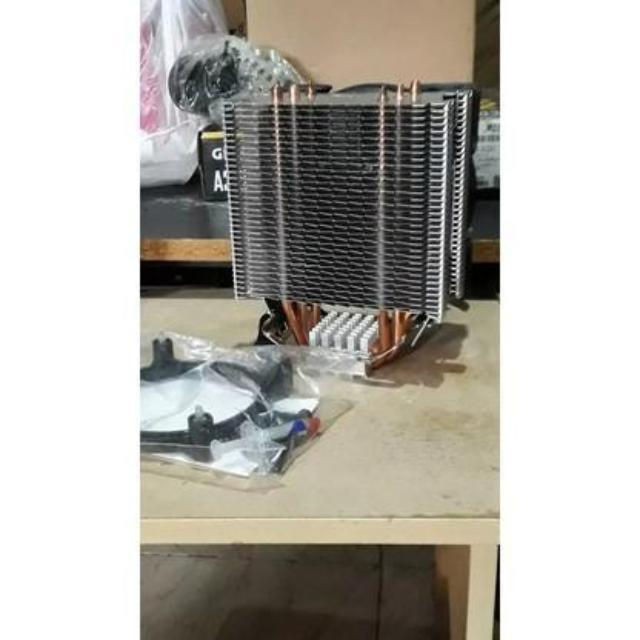CPU_Fan: (215, 72, 476, 380)
